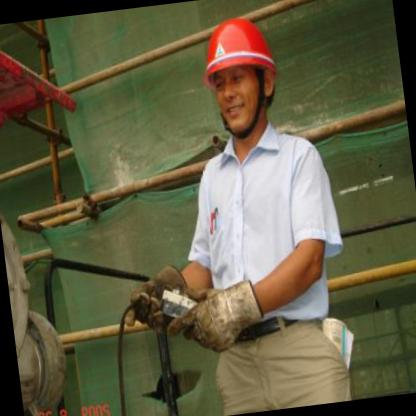helmet: (186, 5, 303, 153)
